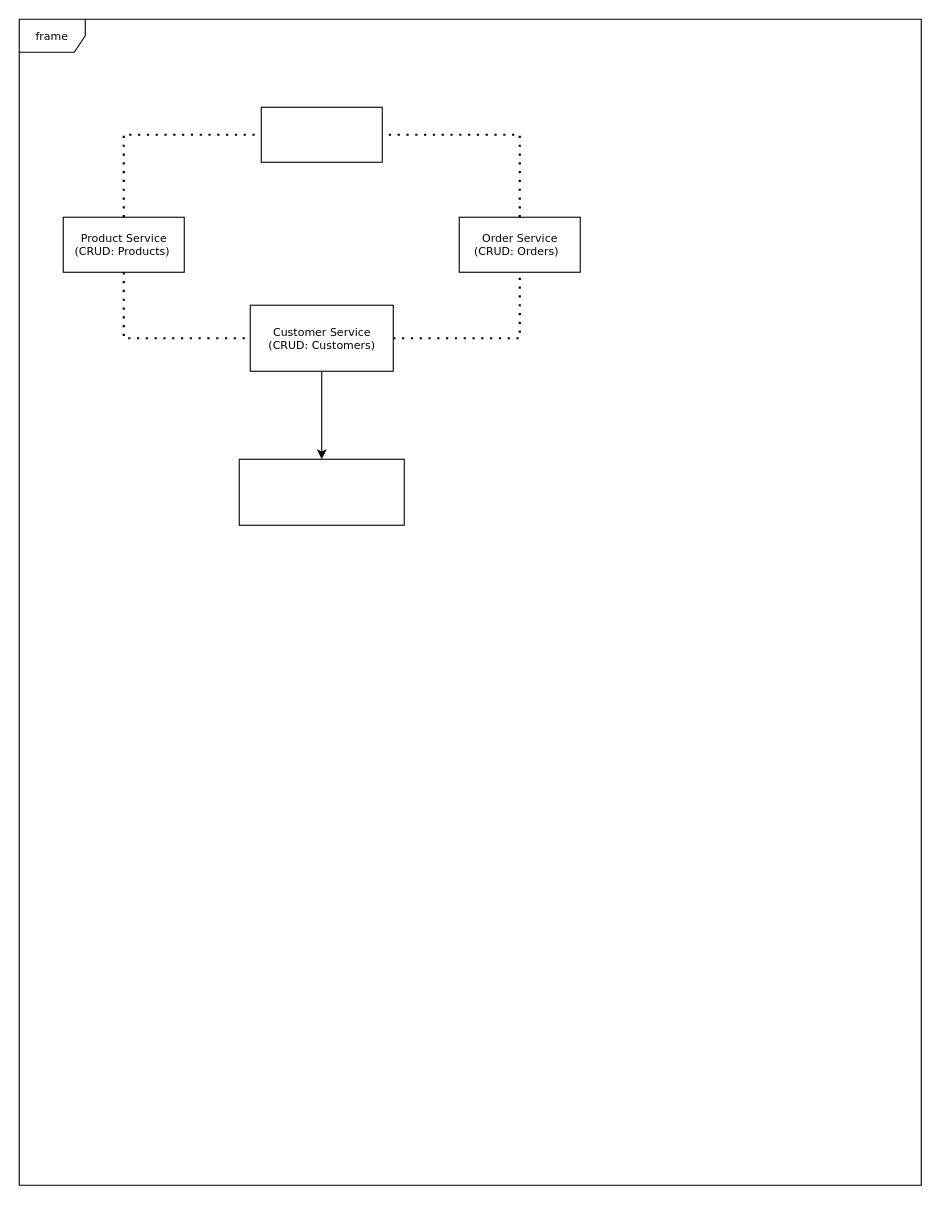
Image size: 941x1205. Some labels were removed from this diagram. The centre of each missing label's shape, as x and y in pixels:
"API Gateway" goes at (x=321, y=134).
"Message Broker (Kafka)" goes at (x=321, y=491).
